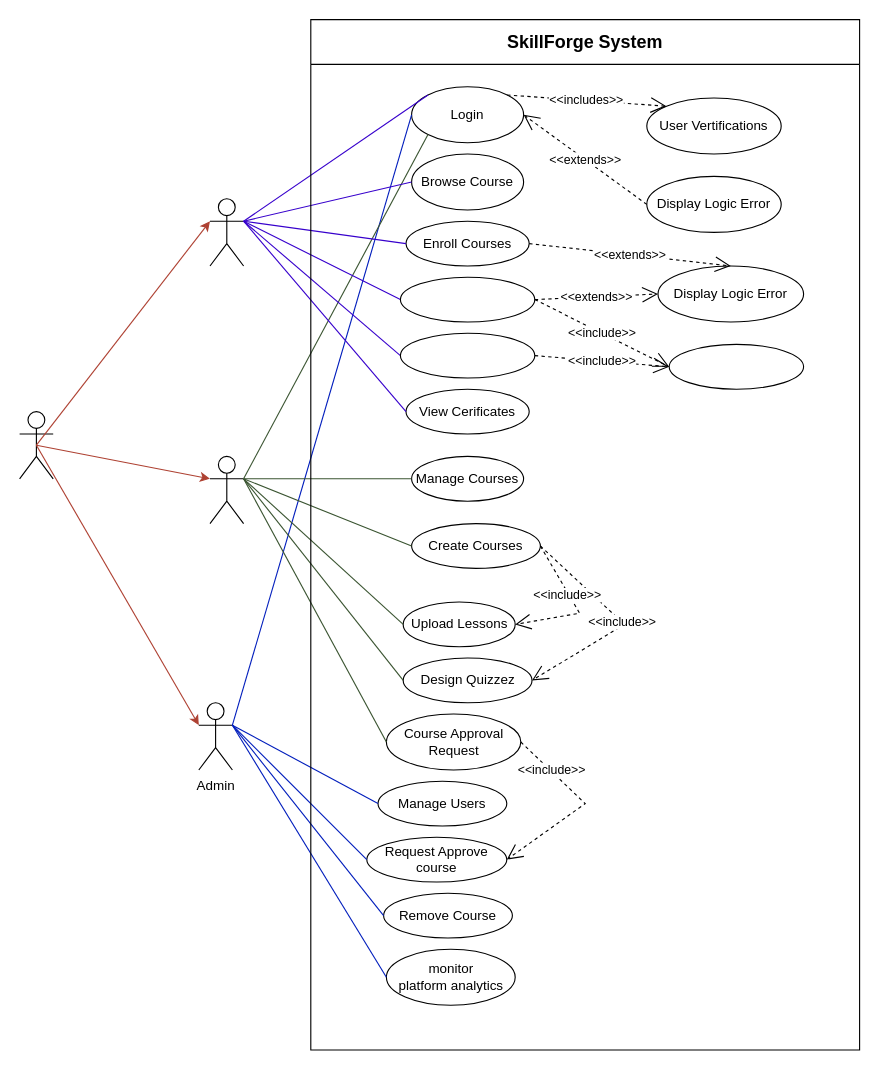
This 879x1070 diagram has some shape labels left out. The box of each missing label's shape, as (x1, y1, x2, y2) in pixels:
Complete lessons: (399, 332, 535, 378)
Generate Certificate: (668, 343, 804, 389)
Instructor: (209, 455, 244, 524)
Student: (209, 198, 244, 266)
Take Quizzez: (399, 276, 535, 322)
User: (18, 410, 53, 479)
